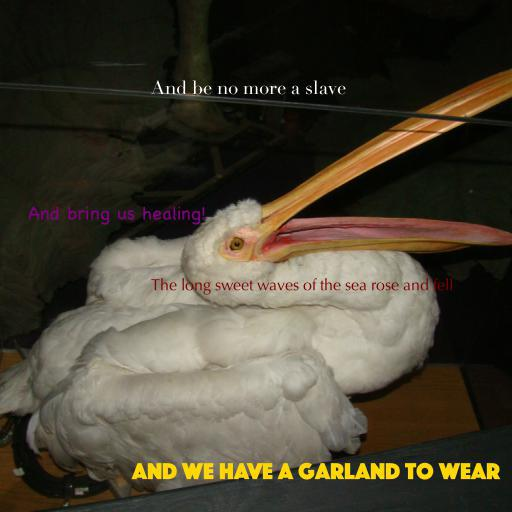Chalkboard: (27, 206, 205, 225)
Didot: (150, 80, 346, 95)
Optima: (151, 278, 453, 295)
Phosphate: (132, 462, 500, 480)
